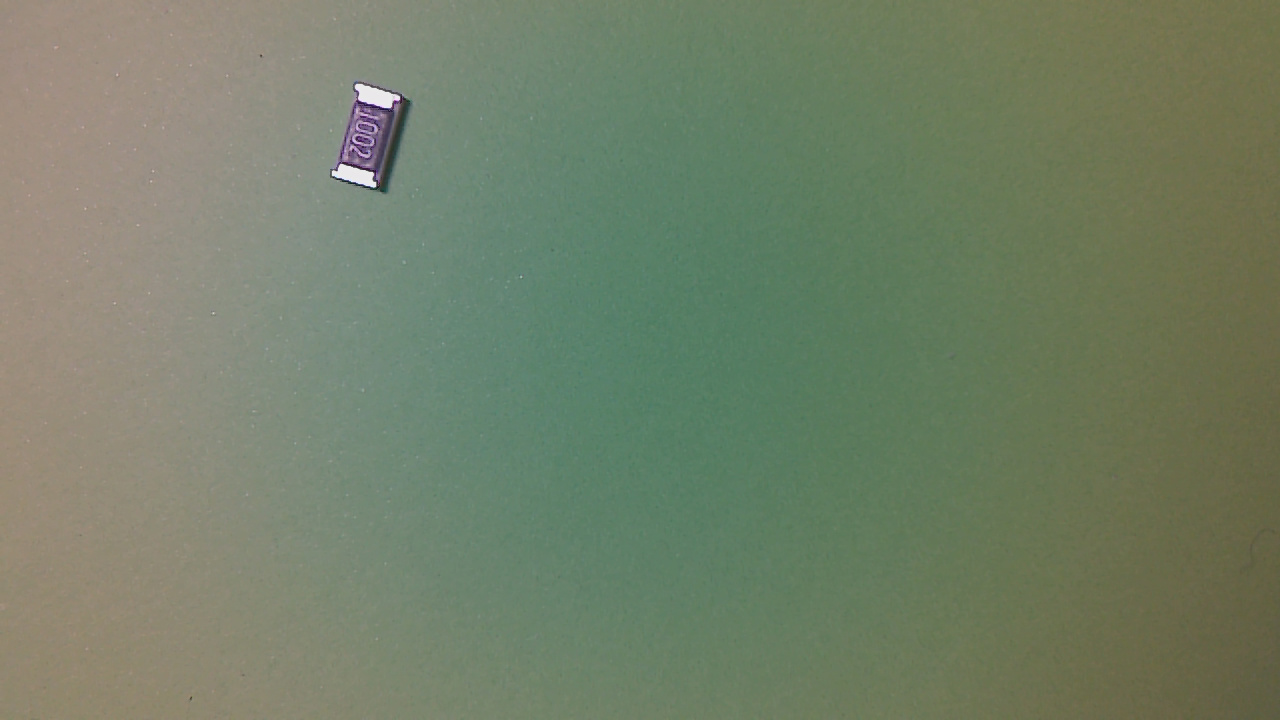Resistor: (329, 80, 415, 202)
